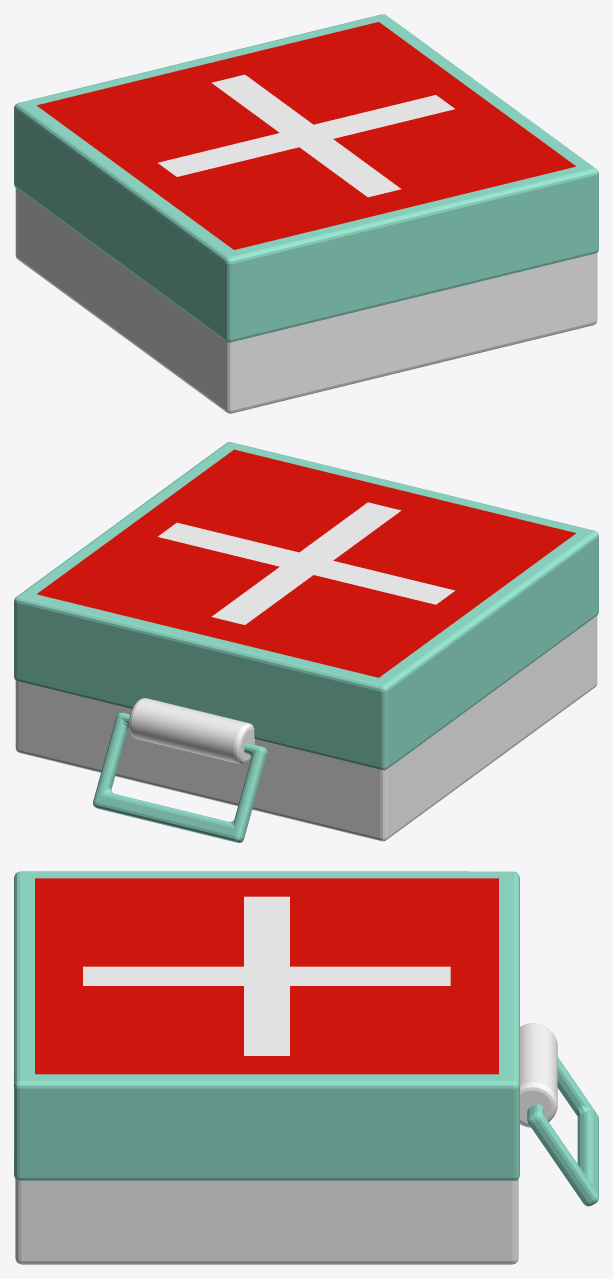
File: Medipack.fbx
3 renders of one model, top to bottom at view 1: azimuth 30°, elevation 25°; view 2: azimuth 150°, elevation 25°; view 3: azimuth 270°, elevation 25°, orthographic. The views are drawn at different scales.
Visible parts, largest first — view 1: Cube.001; view 2: Cube.001; view 3: Cube.001.
Part boxes in pixels (x1=…): Cube.001: x1=14, y1=14, x2=598, y2=413; Cube.001: x1=14, y1=442, x2=598, y2=842; Cube.001: x1=14, y1=871, x2=598, y2=1264.
Bounding box in the file's own units: 201 × 83.22 × 233.
